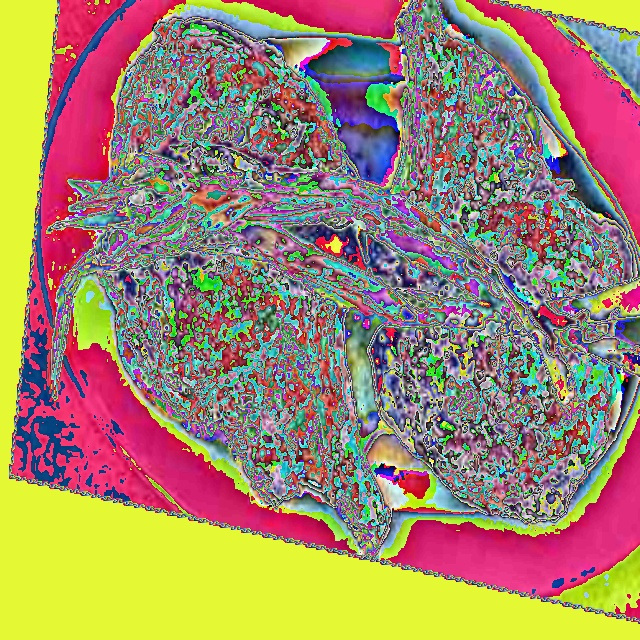background: (46, 0, 639, 559)
